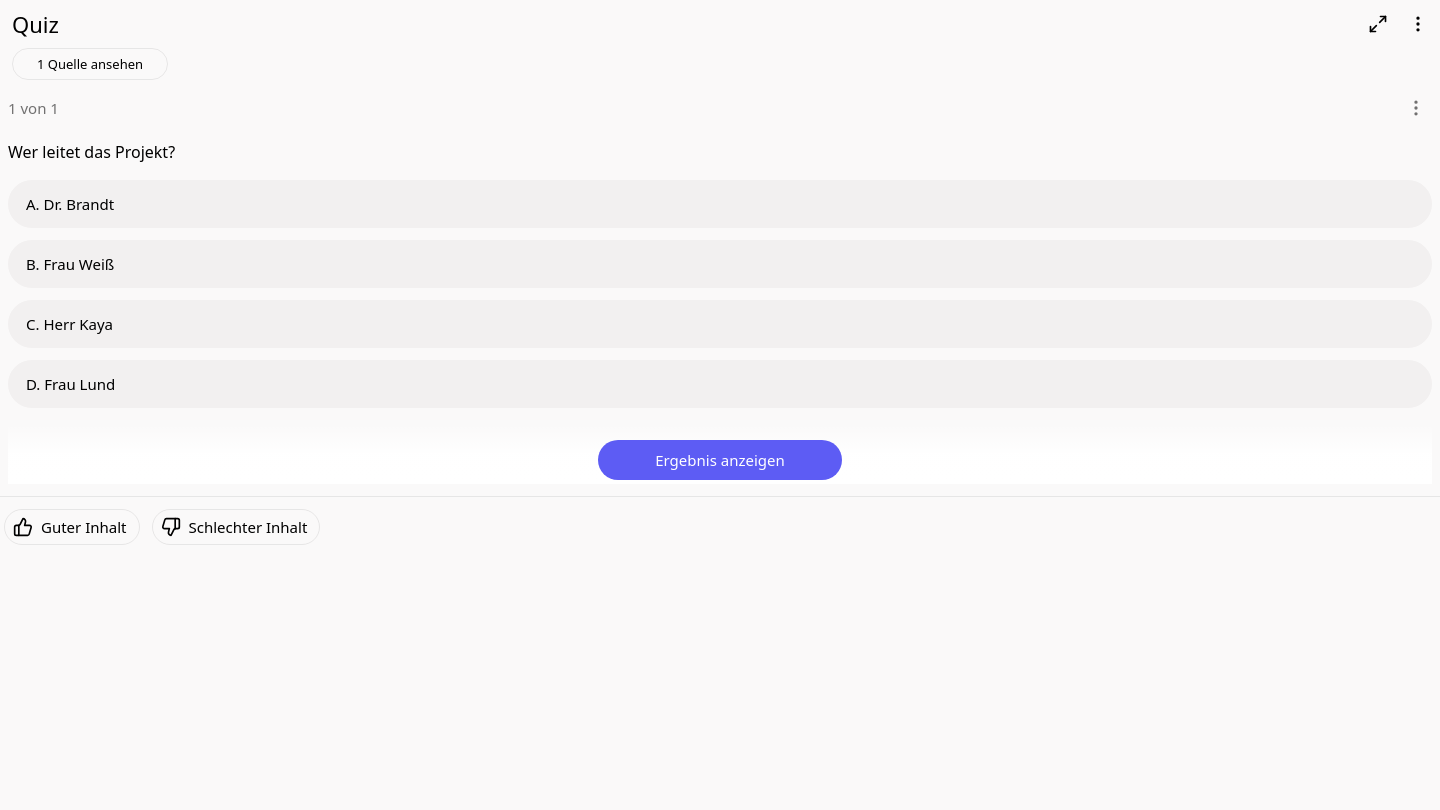
Test case: OutputViewer › enlarges the view in a dialog
Step 1. Click the button named "Maximieren" → coordinates (1378, 24), box [1360,6,1396,42]
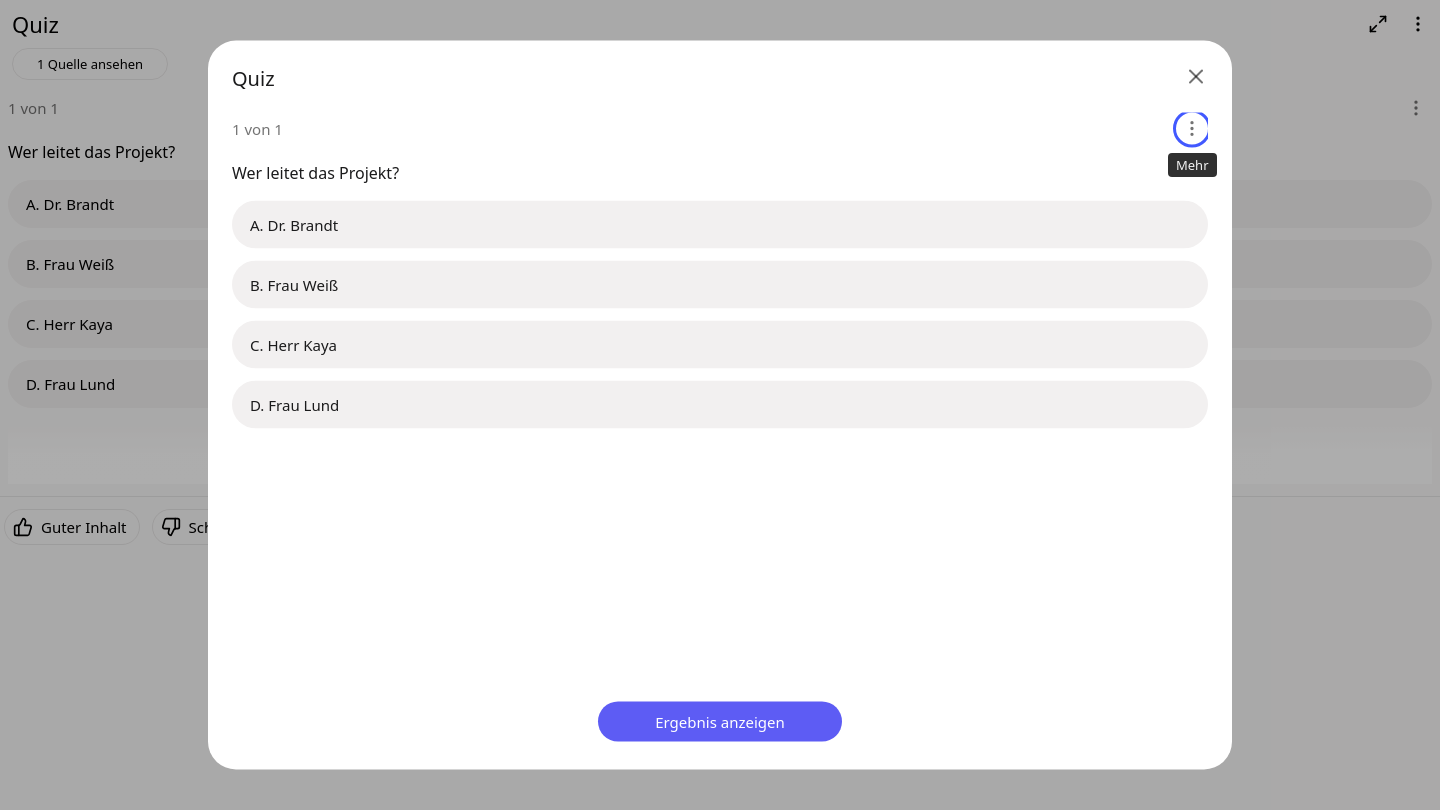
Check: the heading "Wer leitet das Projekt?" is shown, box [232,162,399,184]
